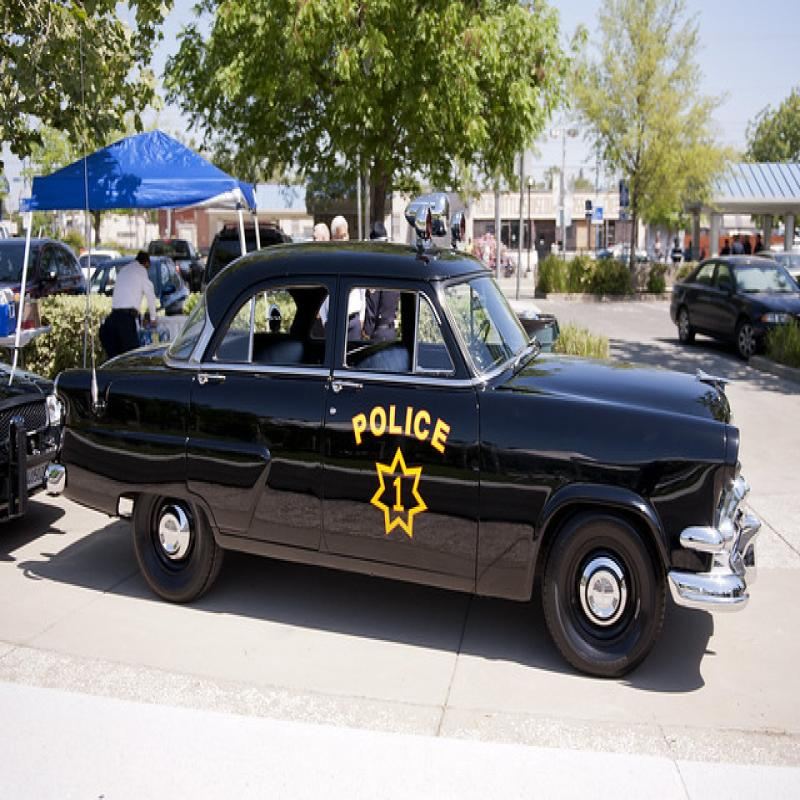car: (57, 208, 770, 706)
